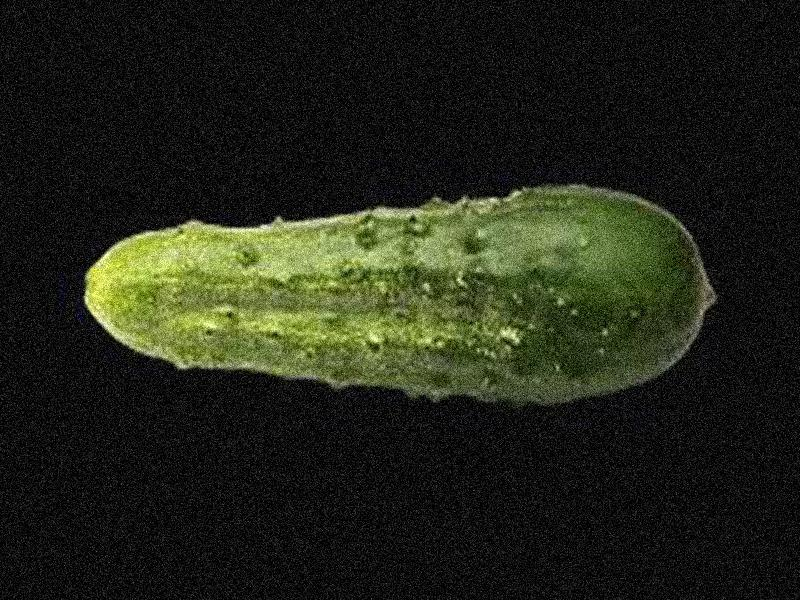Cucumber: (85, 184, 715, 409)
